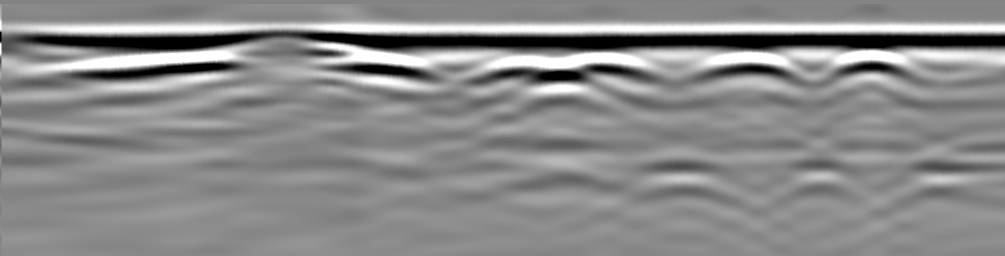pipe: (214, 27, 356, 60)
steel: (467, 55, 664, 83), (688, 52, 802, 81), (818, 49, 921, 77)
